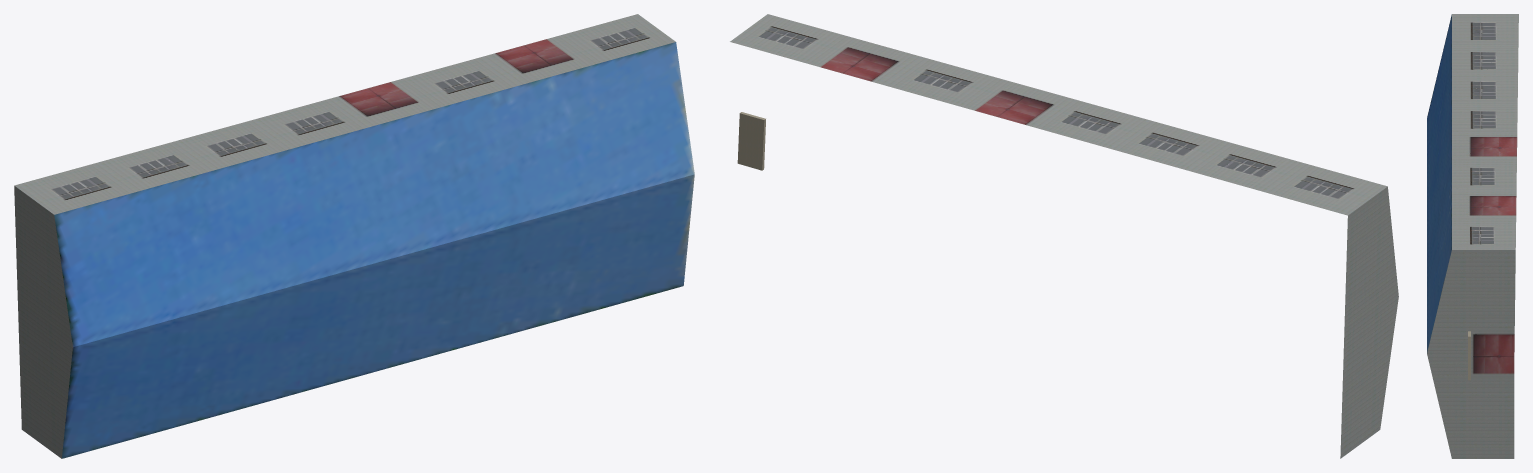
The picture shows the model from 3 angles, left to right: view 1: azimuth 30°, elevation 25°; view 2: azimuth 150°, elevation 25°; view 3: azimuth 270°, elevation 25°; orthographic projection. The views are drawn at different scales.
Visible parts, largest first — view 1: Group_MatrixTransform_i96142_Geometry_4, Group_MatrixTransform_i96142_Geometry_1, Group_MatrixTransform_i96142_Geometry_0, Group_MatrixTransform_i96142_Geometry_2; view 2: Group_MatrixTransform_i96142_Geometry_1, Group_MatrixTransform_i96142_Geometry_0, Group_MatrixTransform_i96142_Geometry_2, Group_MatrixTransform_i96142_Geometry_3; view 3: Group_MatrixTransform_i96142_Geometry_0, Group_MatrixTransform_i96142_Geometry_1, Group_MatrixTransform_i96142_Geometry_2, Group_MatrixTransform_i96142_Geometry_4, Group_MatrixTransform_i96142_Geometry_3.
Part boxes in pixels (<box>): Group_MatrixTransform_i96142_Geometry_4: <box>54,42,694,458</box>; Group_MatrixTransform_i96142_Geometry_1: <box>14,14,675,214</box>; Group_MatrixTransform_i96142_Geometry_0: <box>14,186,72,458</box>; Group_MatrixTransform_i96142_Geometry_2: <box>326,35,597,128</box>; Group_MatrixTransform_i96142_Geometry_1: <box>730,14,1387,215</box>; Group_MatrixTransform_i96142_Geometry_0: <box>1340,186,1398,458</box>; Group_MatrixTransform_i96142_Geometry_2: <box>807,35,1077,128</box>; Group_MatrixTransform_i96142_Geometry_3: <box>737,112,765,170</box>; Group_MatrixTransform_i96142_Geometry_0: <box>1427,250,1515,458</box>; Group_MatrixTransform_i96142_Geometry_1: <box>1452,14,1518,249</box>; Group_MatrixTransform_i96142_Geometry_2: <box>1452,132,1517,377</box>; Group_MatrixTransform_i96142_Geometry_4: <box>1427,14,1451,353</box>; Group_MatrixTransform_i96142_Geometry_3: <box>1468,331,1470,380</box>.
Size of the model in its own units: 40.56 by 16.16 by 6.02.
Materials: 6 (6 with a texture image).
